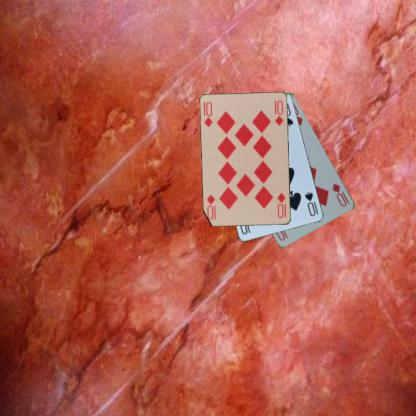10d: (330, 181, 351, 208), (275, 190, 288, 220), (202, 100, 214, 128)
10s: (302, 190, 320, 217)
